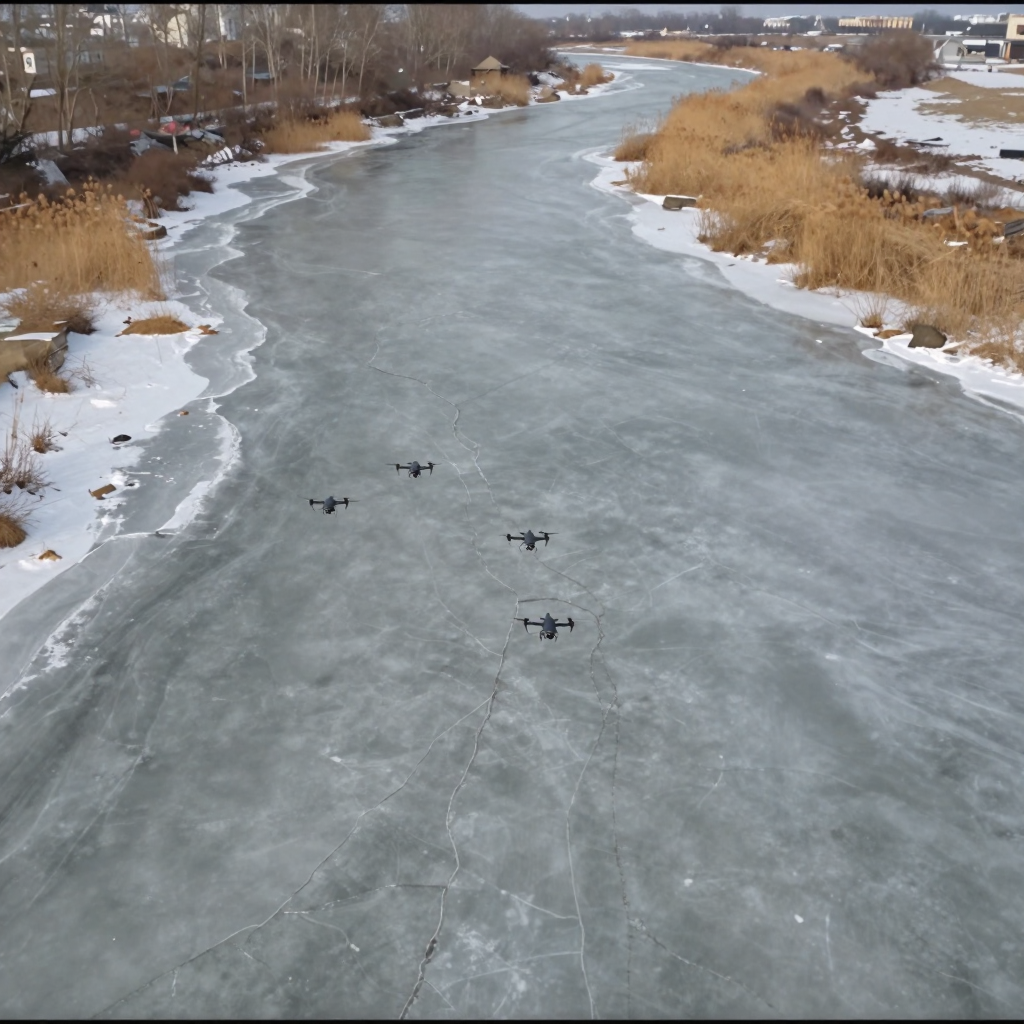drone: (513, 613, 575, 641), (512, 530, 558, 551), (299, 496, 359, 512), (386, 461, 441, 478)
